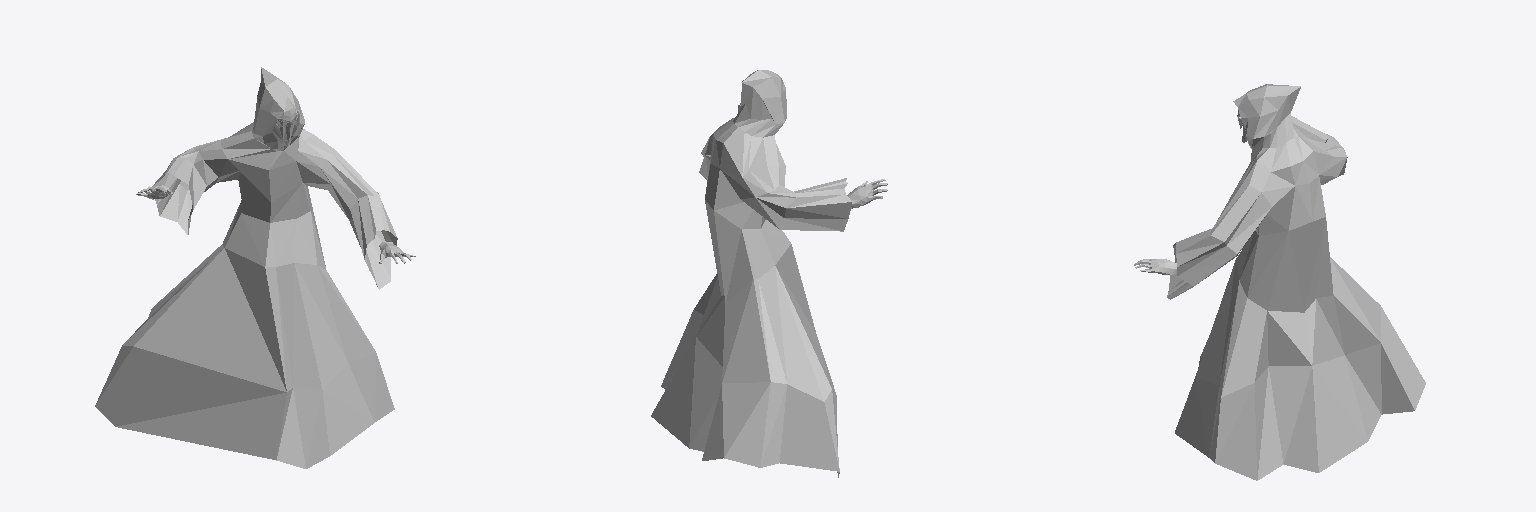
File: ReaperAttack(53).obj
3 views of the same model, side by side, from view 1: azimuth 30°, elevation 25°; view 2: azimuth 150°, elevation 25°; view 3: azimuth 270°, elevation 25° (orthographic).
Parts seen in each view (by area): view 1: Plane003; view 2: Plane003; view 3: Plane003.
Part boxes in pixels (bbox=[...]): Plane003: bbox=[95, 67, 415, 468]; Plane003: bbox=[651, 70, 887, 477]; Plane003: bbox=[1134, 84, 1425, 480].
Bounding box in the file's own units: 145 × 208 × 155.